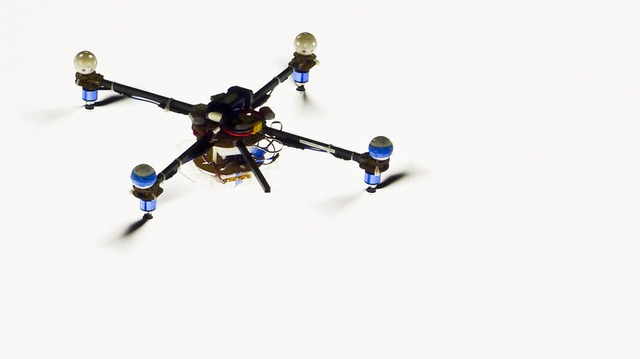drone: (72, 33, 404, 238)
